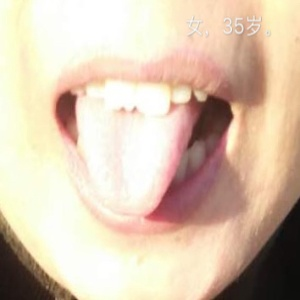st: (66, 112, 202, 221)
